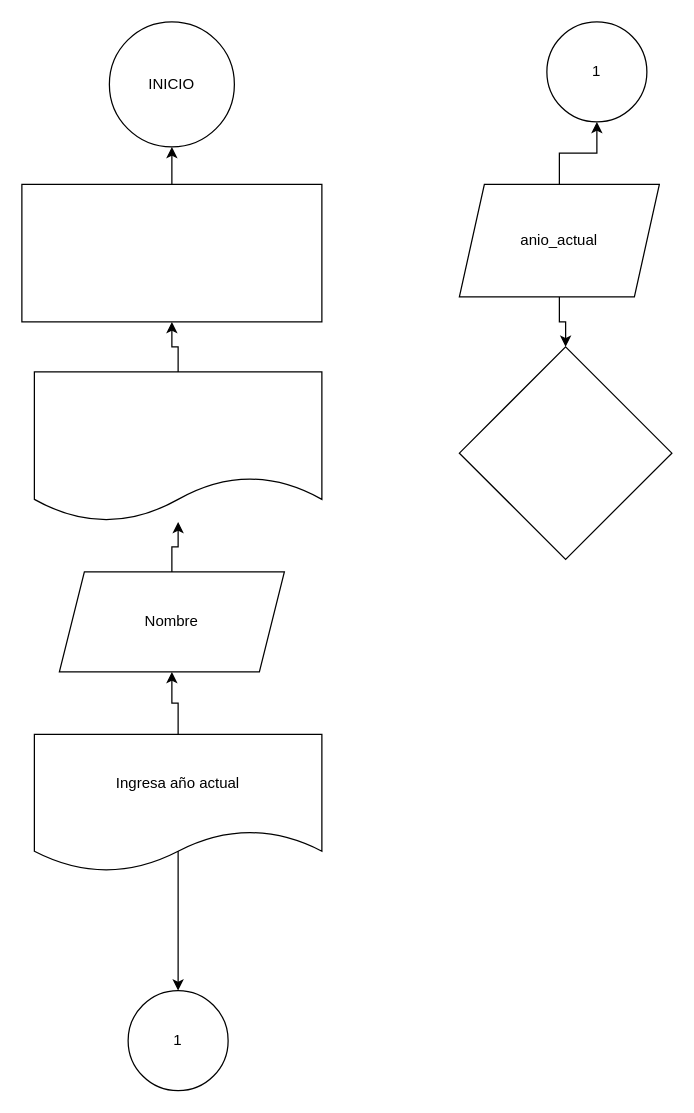
Some shapes in this 694 by 1113 pixel diagram are drawn without their labels. The shapes that lost their labels are listed below. From the top down, each one's centre as x and y in pixels, then its label:
(x=171, y=252): anio_nacimiento (str) anio_actual (str) edad (int) nombre (str)
(x=177, y=446): Ingresa tu nombre
(x=565, y=452): Si Longitud (anio_actual)=4
